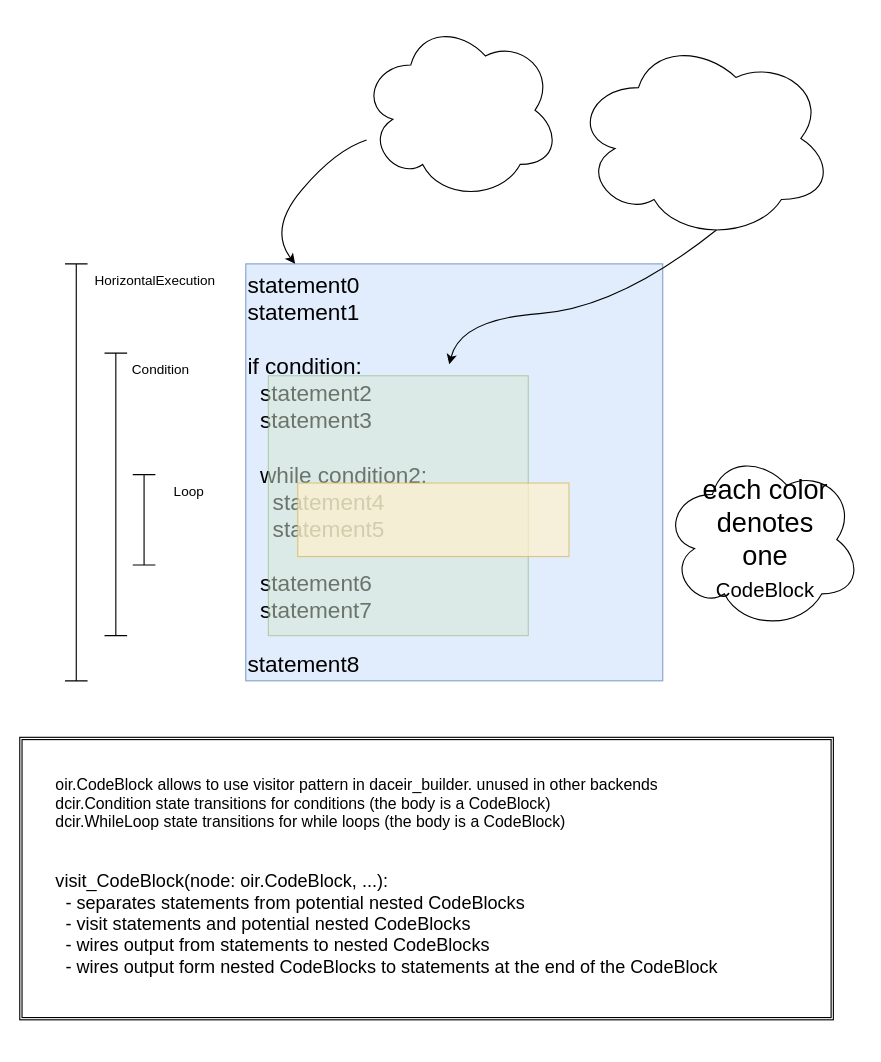
The diagram is 881 pixels wide and 1062 high, and some of its shapes have lost their labels. The shapes that lost their labels are listed below. From the top down, each one's centre as x and y in pixels, then its label:
At point (460, 110): "statements are evaluated in a Tasklet".
At point (702, 138): "nested code blocks in conditions and while loops".
